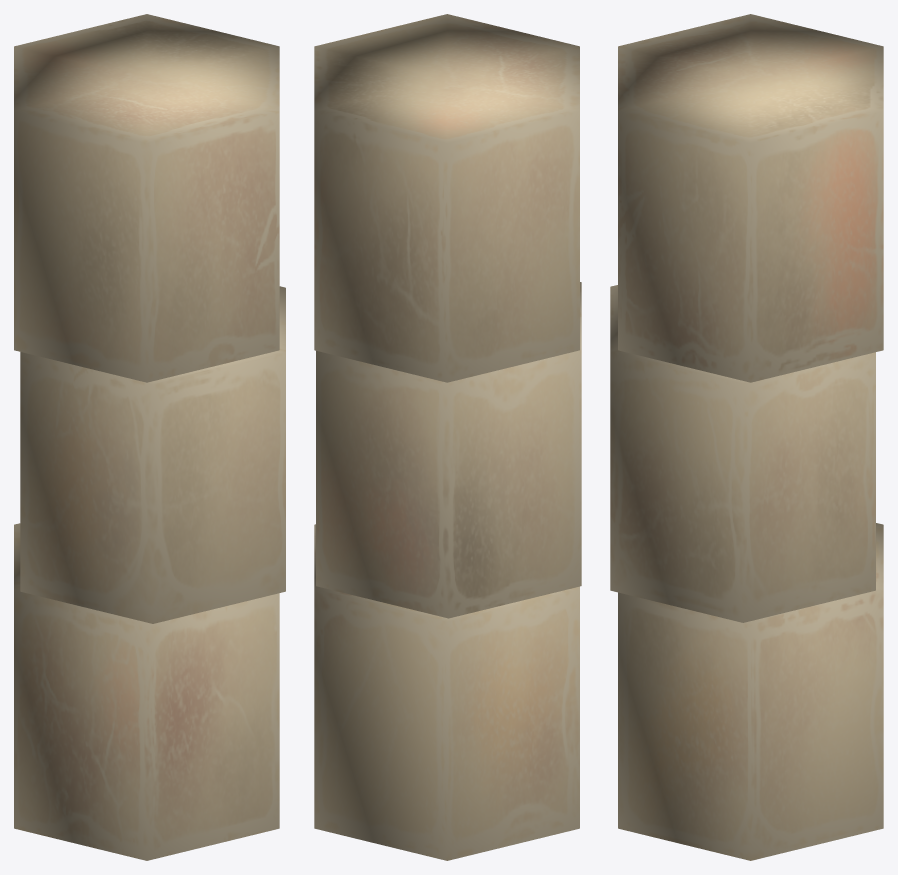
File: exteriorpilar1.fbx
The picture shows the model from 3 angles, left to right: view 1: azimuth 30°, elevation 25°; view 2: azimuth 150°, elevation 25°; view 3: azimuth 270°, elevation 25°; orthographic projection.
Parts seen in each view (by area): view 1: exteriorpillar1; view 2: exteriorpillar1; view 3: exteriorpillar1.
Boxes of the visible parts, <box> form: exteriorpillar1: <box>14,14,285,860</box>; exteriorpillar1: <box>314,14,581,860</box>; exteriorpillar1: <box>610,14,883,860</box>.
Size of the model in its own units: 1.08 by 2.77 by 0.9553.
